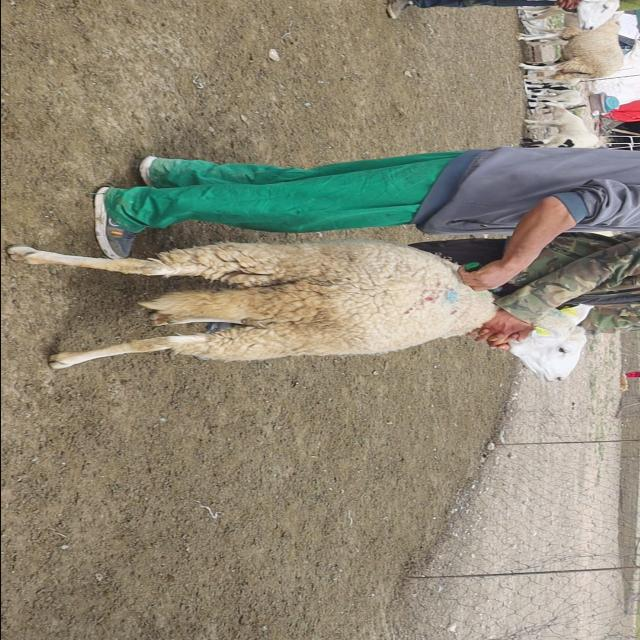Score_5: (7, 240, 495, 369)
